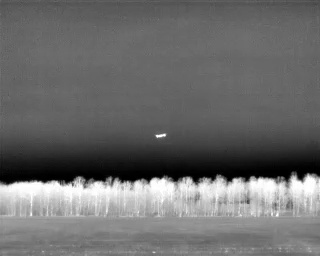DRONE: (151, 128, 171, 143)
